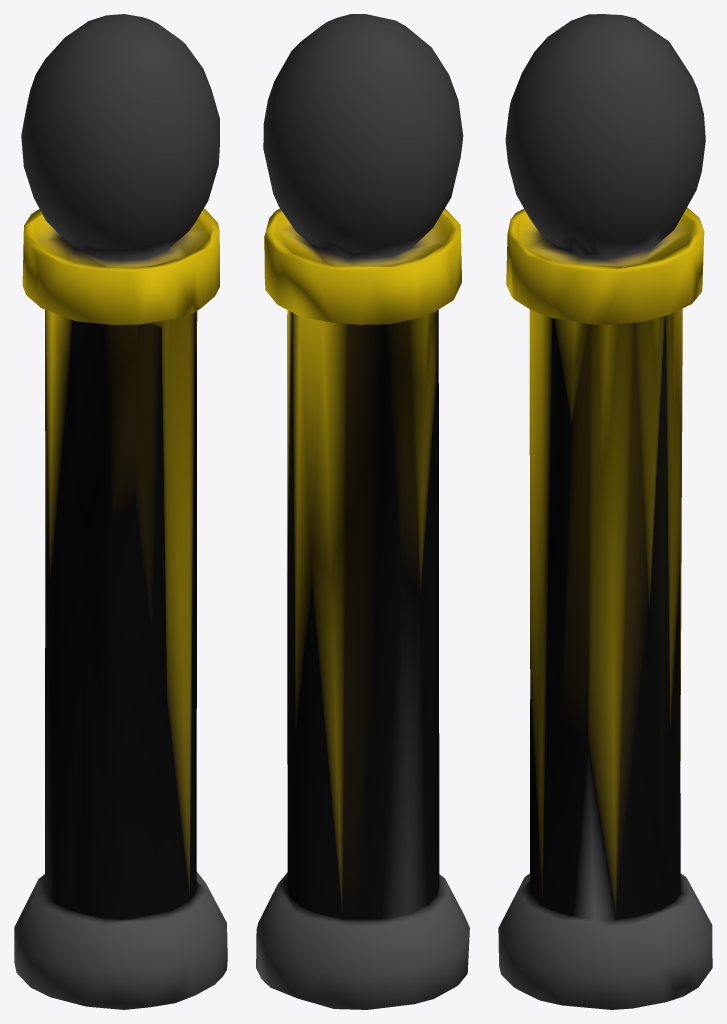
The model's file is gen3d-street-bollard-lod1.glb.
The picture shows the model from 3 angles, left to right: view 1: azimuth 30°, elevation 25°; view 2: azimuth 150°, elevation 25°; view 3: azimuth 270°, elevation 25°; orthographic projection.
Parts seen in each view (by area): view 1: part_0; view 2: part_0; view 3: part_0.
Part boxes in pixels (box(x1,y1,x2,y2)): part_0: box(14, 14, 227, 1009); part_0: box(256, 14, 469, 1009); part_0: box(498, 14, 712, 1009).
Size of the model in its own units: 0.2048 by 0.9985 by 0.205.
